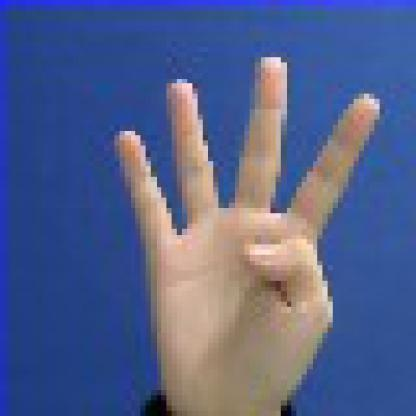four: (88, 41, 390, 410)
